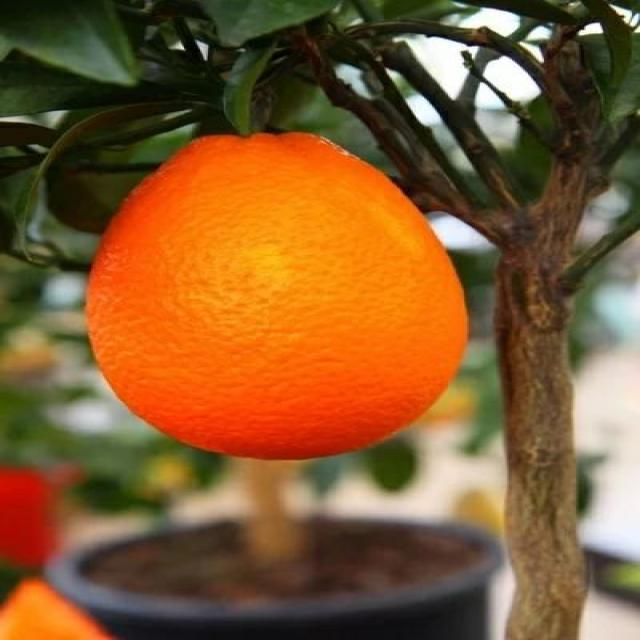Jeruk Sudah Matang: (110, 124, 456, 468)
